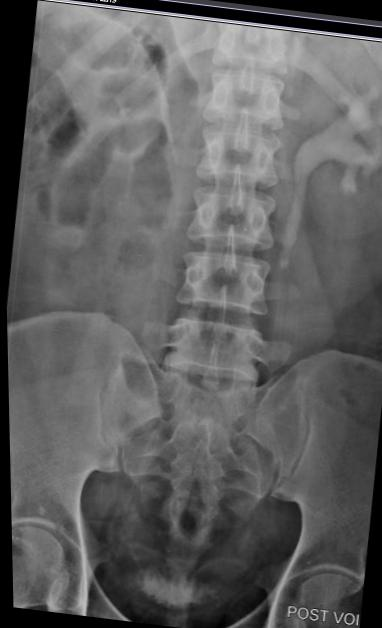left kidney: (278, 36, 381, 252)
vertebrae: (197, 66, 294, 136)
